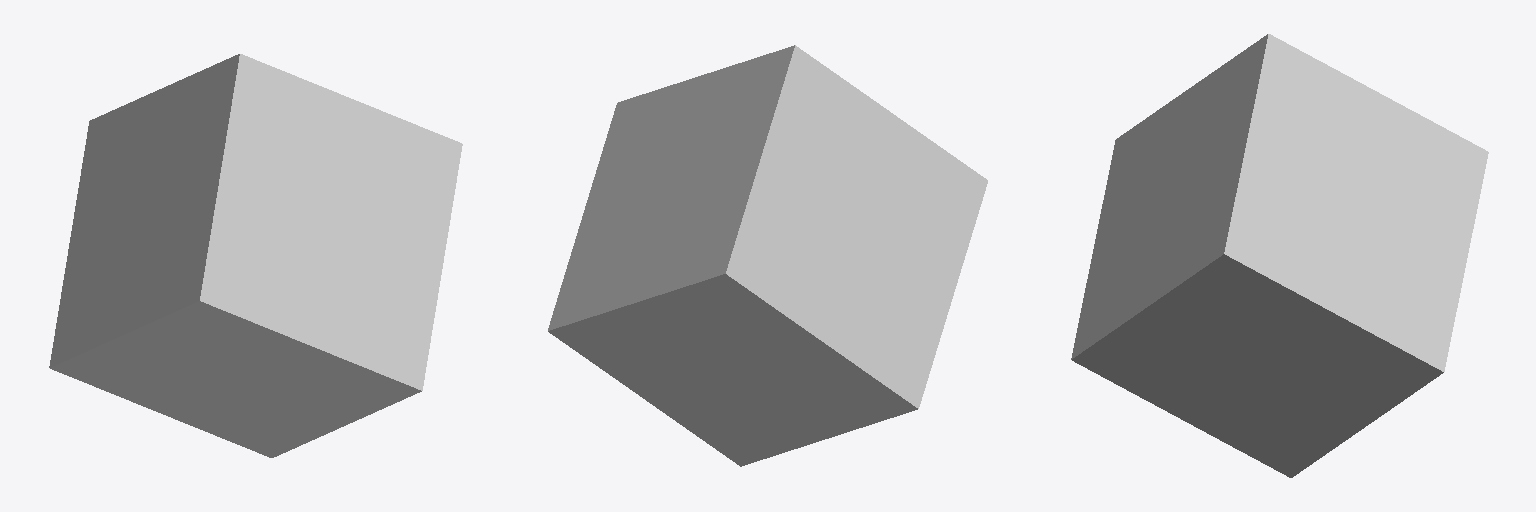
Rendered from composite_cube_center_surface_mass.obj.
The picture shows the model from 3 angles: view 1: azimuth 30°, elevation 25°; view 2: azimuth 150°, elevation 25°; view 3: azimuth 270°, elevation 25°; orthographic projection.
Parts seen in each view (by area): view 1: Cube, Cube.002, Cube.001; view 2: Cube, Cube.001, Cube.002; view 3: Cube.002, Cube.001, Cube.
Boxes of the visible parts, x1,y1,x2,y2 form: Cube: [49, 54, 350, 412]; Cube.002: [236, 99, 462, 424]; Cube.001: [69, 87, 345, 457]; Cube: [672, 45, 987, 437]; Cube.001: [548, 160, 856, 466]; Cube.002: [582, 74, 705, 216]; Cube.002: [1071, 144, 1355, 418]; Cube.001: [1181, 93, 1488, 477]; Cube: [1093, 34, 1378, 249].
Bounding box in the file's own units: 6.08 × 6.88 × 6.15.